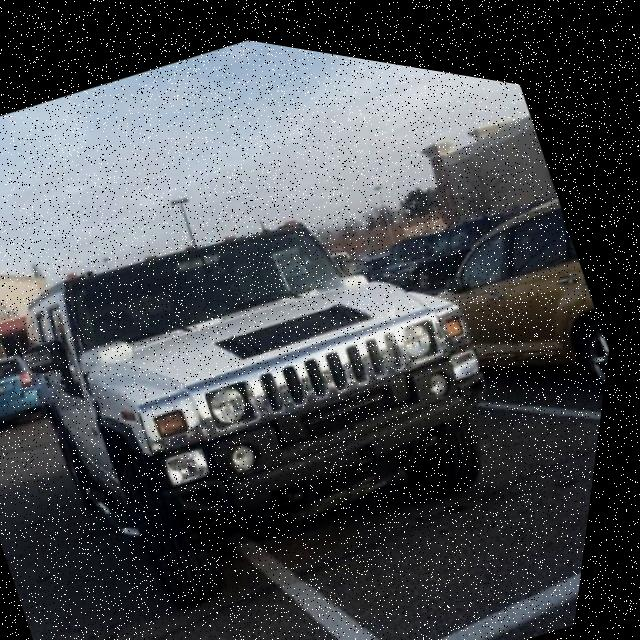license_plate: (0, 381, 15, 396)
